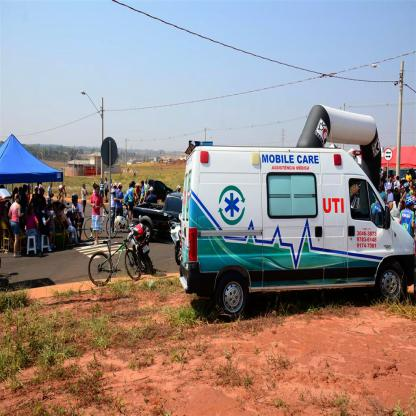Ambulance: (178, 104, 416, 321)
